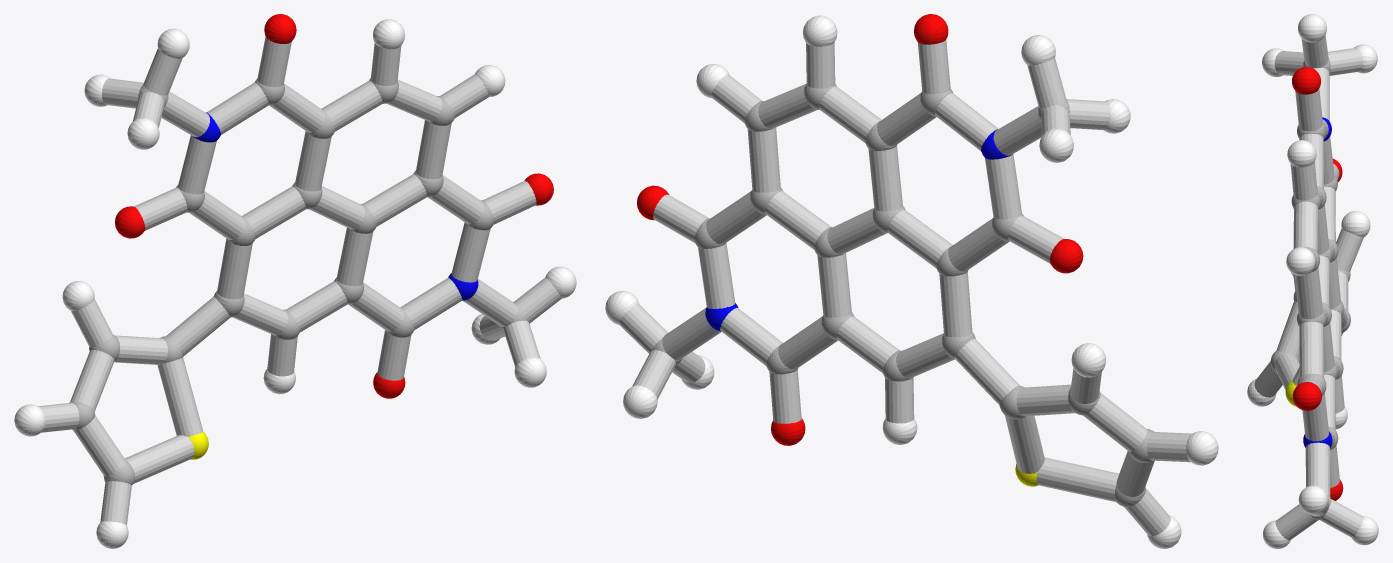
Rendered from Dimethyl_Naphthalene_Dicarboximide_Phi_25_Theta_20_Thiophene.glb.
The picture shows the model from 3 angles, left to right: view 1: azimuth 30°, elevation 25°; view 2: azimuth 150°, elevation 25°; view 3: azimuth 270°, elevation 25°; orthographic projection. The views are drawn at different scales.
Visible parts, largest first — view 1: grp14119, grp7241, grp1, grp12309, grp11585; view 2: grp14119, grp7241, grp1, grp12309, grp11585; view 3: grp14119, grp7241, grp1, grp12309, grp11585.
Part boxes in pixels (<box>): grp14119: <box>38,36,561,525</box>; grp7241: <box>14,19,576,548</box>; grp1: <box>69,78,527,484</box>; grp12309: <box>115,14,553,398</box>; grp11585: <box>193,112,478,300</box>; grp14119: <box>619,40,1191,536</box>; grp7241: <box>605,15,1218,548</box>; grp1: <box>651,84,1154,507</box>; grp12309: <box>637,14,1083,445</box>; grp11585: <box>705,129,1012,331</box>; grp14119: <box>1254,35,1363,540</box>; grp7241: <box>1247,14,1378,548</box>; grp1: <box>1270,58,1350,519</box>; grp12309: <box>1292,67,1343,500</box>; grp11585: <box>1303,117,1332,447</box>.
Bounding box in the file's own units: 12.06 × 9.73 × 2.7.
